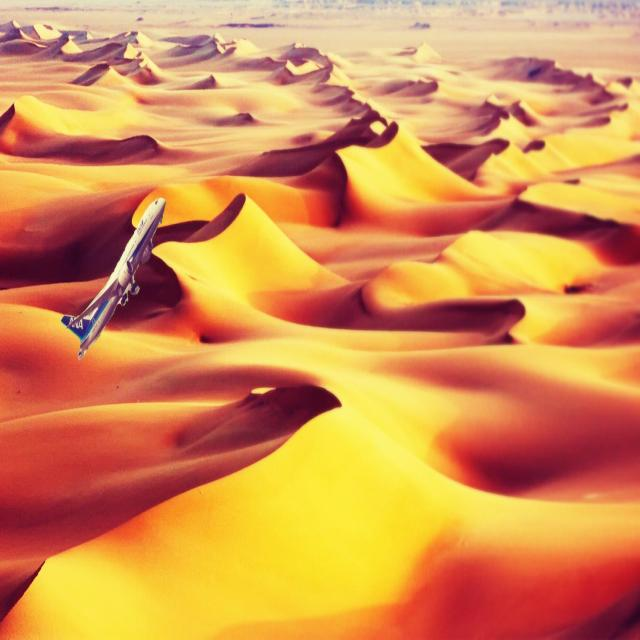airplane: (61, 195, 166, 361)
